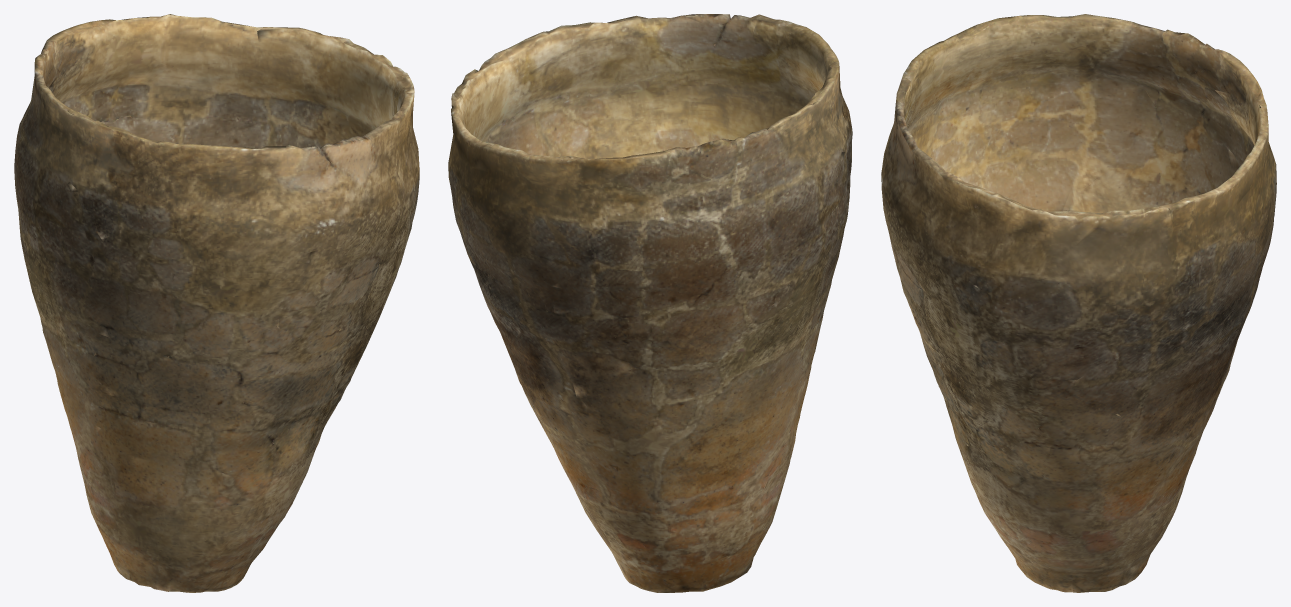
3 views of the same model, side by side, from view 1: azimuth 30°, elevation 25°; view 2: azimuth 150°, elevation 25°; view 3: azimuth 270°, elevation 25° (orthographic).
Parts seen in each view (by area): view 1: FH0008_low; view 2: FH0008_low; view 3: FH0008_low.
Part boxes in pixels (left/top/right/bottom): FH0008_low: left=14, top=14, right=419, bottom=592; FH0008_low: left=448, top=14, right=852, bottom=592; FH0008_low: left=881, top=14, right=1276, bottom=592.
Bounding box in the file's own units: 319 × 433 × 312.
Materials: 1 (1 with a texture image).
